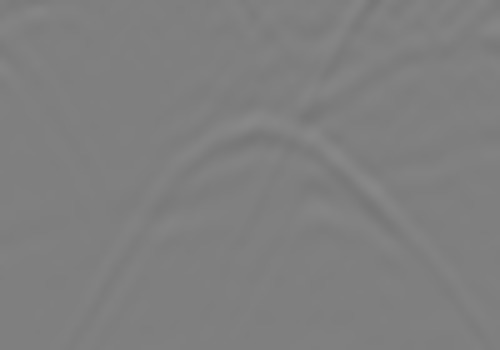hyperbola: (88, 113, 454, 317)
